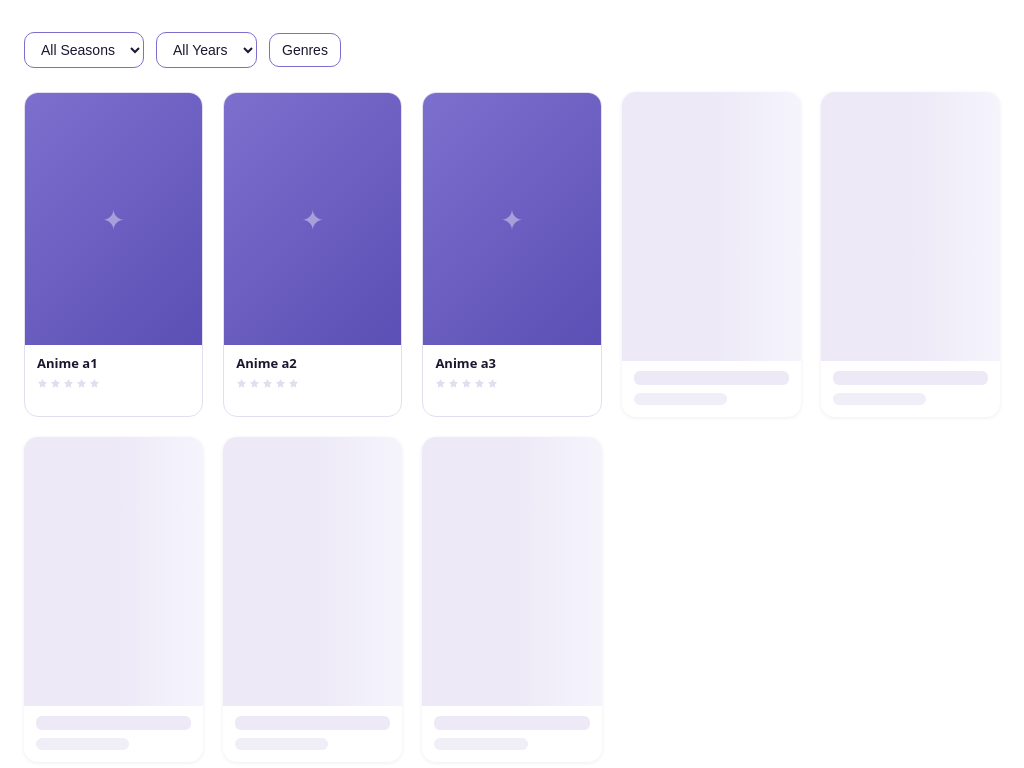
Test: Home — pagination › does not append a stale in-flight load-more response after a filter change supersedes it
Expected: the text "Anime a1" is shown, left=37, top=354, right=98, bottom=372
Select "Winter" in the 1st dropdown showing "All Seasons" at [84, 50], box left=24, top=32, right=144, bottom=68
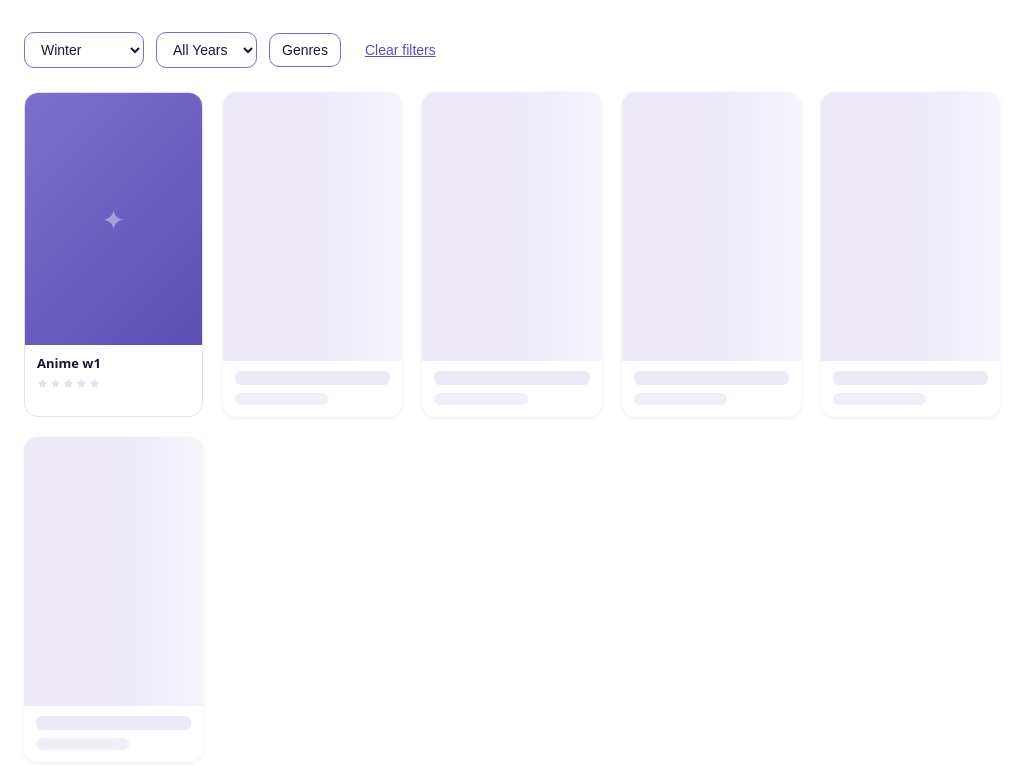
Now the text "Anime w1" is shown, box left=37, top=354, right=101, bottom=372
